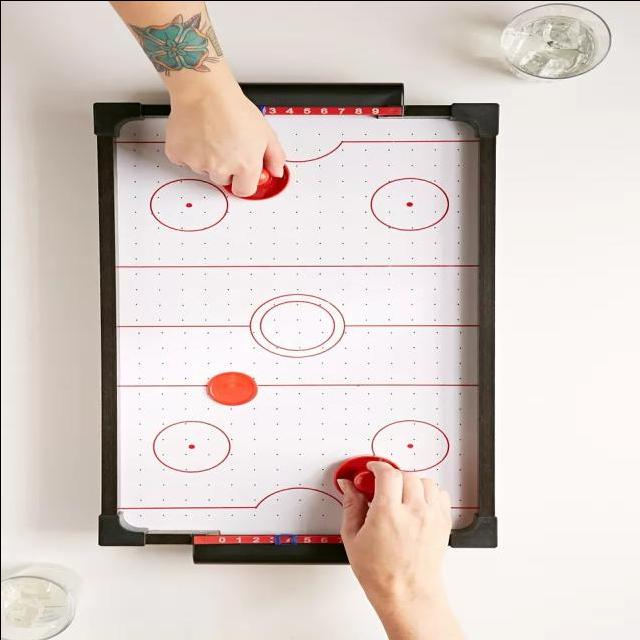chip: (207, 368, 254, 410)
